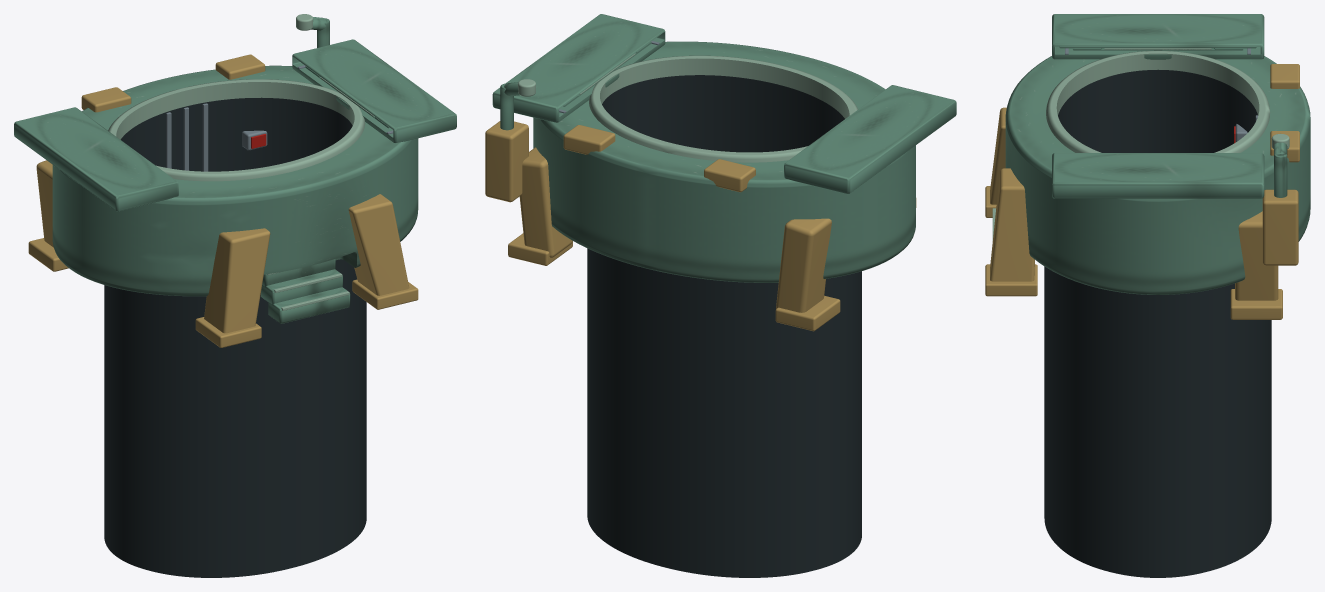
The model's file is covers-stowed.glb.
The picture shows the model from 3 angles, left to right: view 1: azimuth 30°, elevation 25°; view 2: azimuth 150°, elevation 25°; view 3: azimuth 270°, elevation 25°; orthographic projection. The views are drawn at different scales.
Parts seen in each view (by area): view 1: RI10 shaft wall below ground, RI10 fixed oval body, RI10 enclosed side cover cassette, RI10 enclosed side cover cassette.001, RI10 green aperture coaming, RI10 front splayed brass buttress, RI10 front splayed brass buttress.001, RI10 front access step 0, RI10 front access step 1, RI10 rear brass load-bearing buttress, RI10 front brass foot flange, RI10 front brass foot flange.001 (+4 smaller); view 2: RI10 shaft wall below ground, RI10 fixed oval body, RI10 enclosed side cover cassette, RI10 enclosed side cover cassette.001, RI10 green aperture coaming, RI10 rear brass load-bearing buttress, RI10 rear brass load-bearing buttress.001, RI10 right equipment mast foundation, RI10 rear brass foot flange, RI10 rear brass shoulder cap, RI10 rear brass shoulder cap.001, RI10 rear brass foot flange.001; view 3: RI10 shaft wall below ground, RI10 fixed oval body, RI10 enclosed side cover cassette.001, RI10 enclosed side cover cassette, RI10 green aperture coaming, RI10 front splayed brass buttress.001, RI10 right equipment mast foundation, RI10 rear brass load-bearing buttress.001, RI10 rear brass foot flange.001, RI10 front brass foot flange.001, RI10 front splayed brass buttress, RI10 rear brass shoulder cap (+3 smaller).
Boxes of the visible parts, x1,y1,x2,y2 form: RI10 shaft wall below ground: (104,97,366,577); RI10 fixed oval body: (52,65,418,296); RI10 enclosed side cover cassette: (14,107,178,211); RI10 enclosed side cover cassette.001: (292,39,456,142); RI10 green aperture coaming: (108,79,365,181); RI10 front splayed brass buttress: (204,228,270,333); RI10 front splayed brass buttress.001: (348,194,409,295); RI10 front access step 0: (268,287,350,323); RI10 front access step 1: (261,269,342,304); RI10 rear brass load-bearing buttress: (36,160,53,247); RI10 front brass foot flange: (195,317,261,347); RI10 front brass foot flange.001: (352,279,418,309); RI10 shaft wall below ground: (587,75,861,577); RI10 fixed oval body: (533,41,915,282); RI10 enclosed side cover cassette: (784,85,956,193); RI10 enclosed side cover cassette.001: (492,14,665,122); RI10 green aperture coaming: (589,55,857,162); RI10 rear brass load-bearing buttress: (776,218,831,312); RI10 rear brass load-bearing buttress.001: (519,147,572,257); RI10 right equipment mast foundation: (485,121,528,202); RI10 rear brass foot flange: (775,295,840,331); RI10 rear brass shoulder cap: (704,159,755,192); RI10 rear brass shoulder cap.001: (563,125,615,154); RI10 rear brass foot flange.001: (508,233,572,265); RI10 shaft wall below ground: (1044,69,1271,577); RI10 fixed oval body: (1005,56,1310,294); RI10 enclosed side cover cassette.001: (1052,153,1264,198); RI10 enclosed side cover cassette: (1052,14,1264,59); RI10 green aperture coaming: (1046,50,1270,152); RI10 front splayed brass buttress.001: (990,168,1034,281); RI10 right equipment mast foundation: (1262,189,1298,265); RI10 rear brass load-bearing buttress.001: (1235,211,1278,300); RI10 rear brass foot flange.001: (1230,289,1282,319); RI10 front brass foot flange.001: (985,264,1037,296); RI10 front splayed brass buttress: (990,107,1006,204); RI10 rear brass shoulder cap: (1270,64,1299,88).
Bounding box in the file's own units: 2.7 × 3.31 × 2.17.
7 materials, 2 textured.
